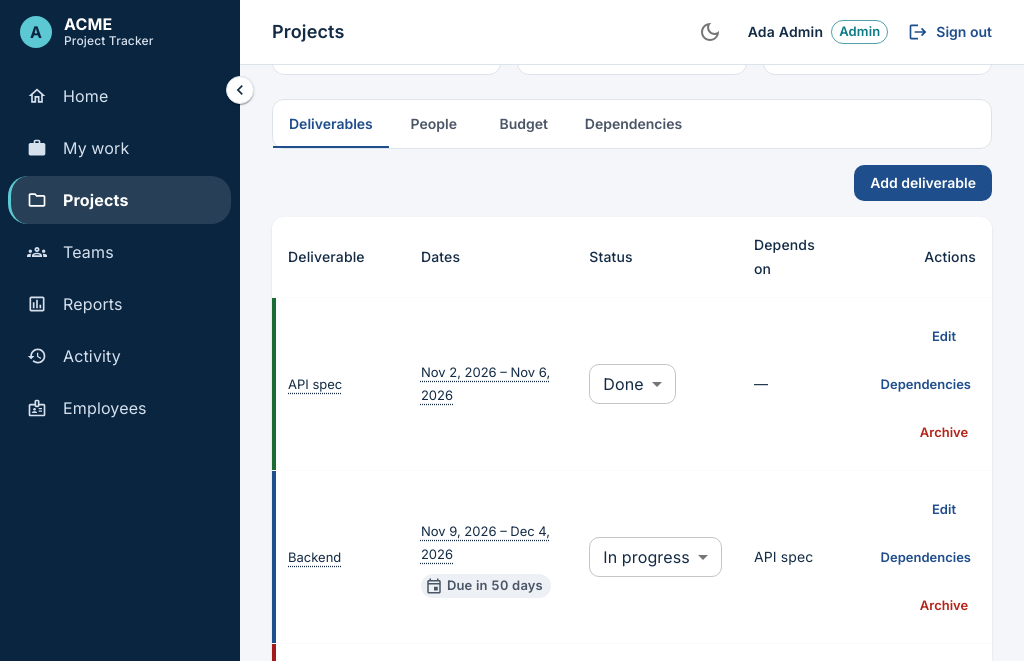
it: Project detail: deliverables › a dependency loop is refused and the loop is named
(page scrolled)
Step 1. Click the button with aria-label "Edit dependencies of API spec" → (926, 384), box [876,362,976,406]
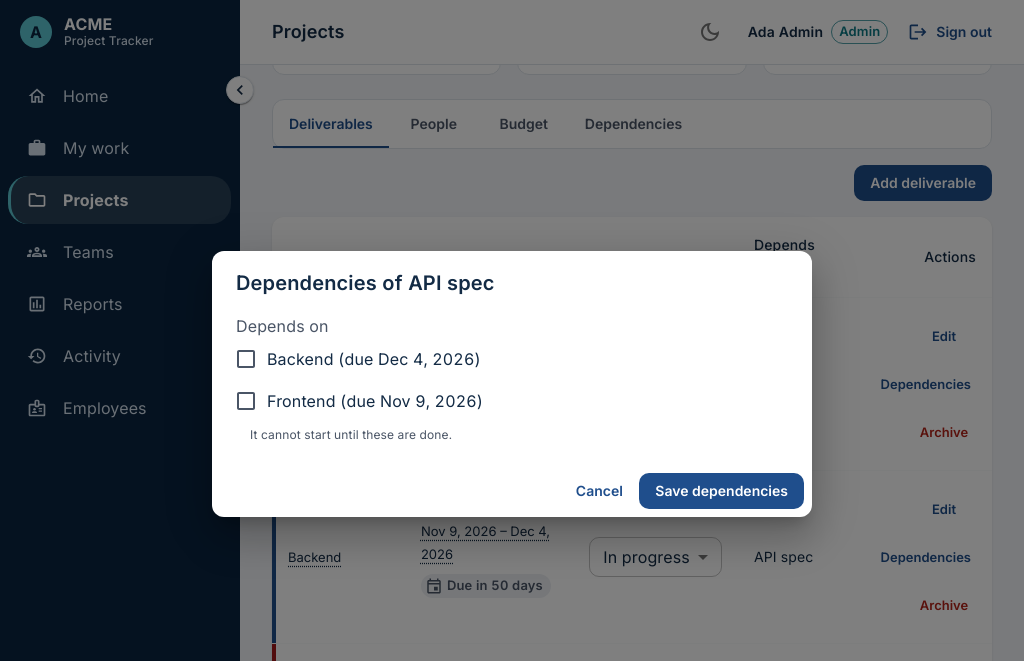
Step 2. Click the checkbox labelled "Frontend (due Nov 9, 2026)" → (359, 401), box [234,389,483,413]
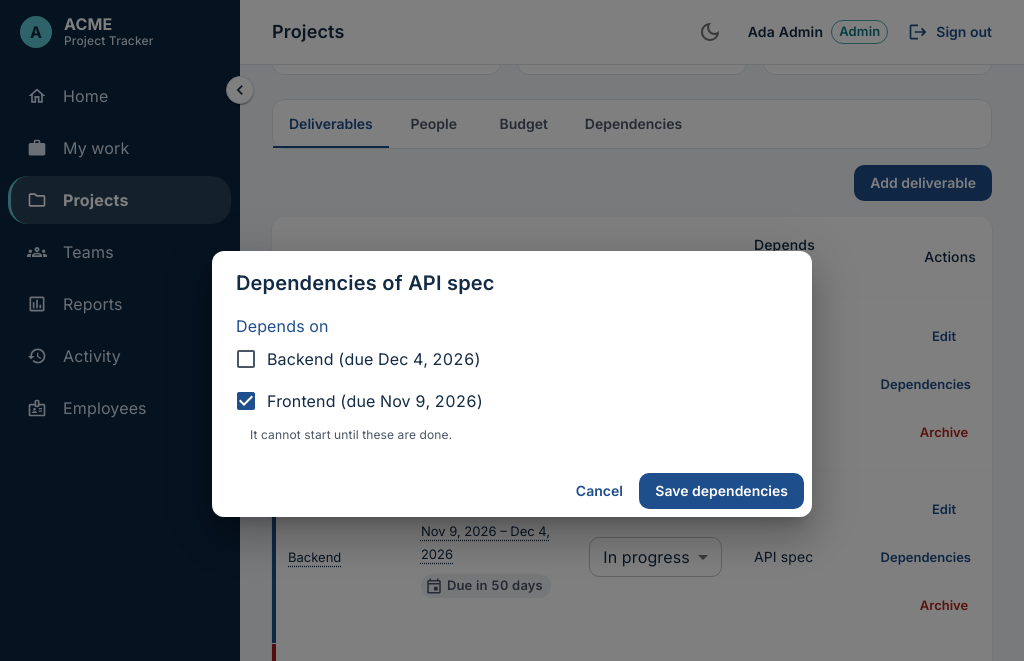
Step 3. Click the button "Save dependencies" → (722, 491), box [639,473,804,509]
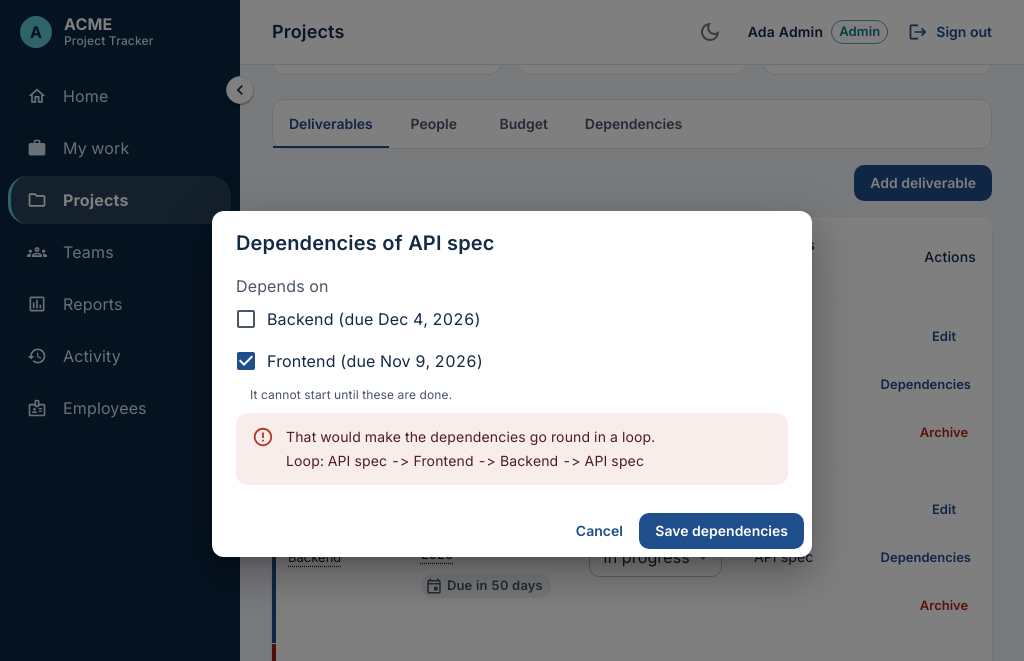
expect the text "That would make the dependencies go round in a loop." is shown: met, box [286,428,655,445]
expect the text "Loop: API spec -> Frontend -> Backend -> API spec" is shown: met, box [286,451,655,471]
